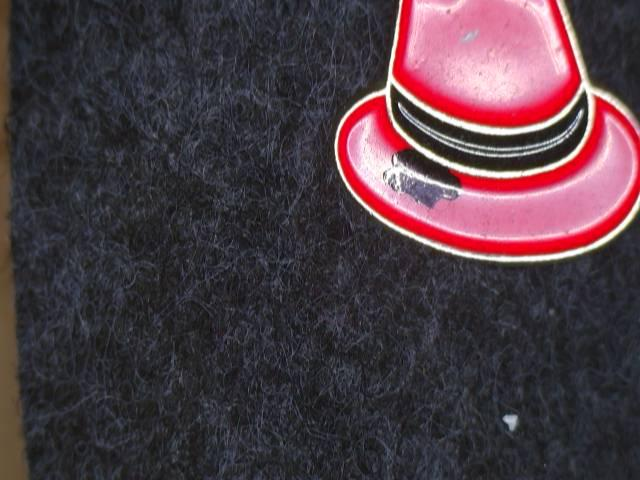Red-Hat: (329, 0, 640, 298)
Scratch: (371, 128, 480, 218)
